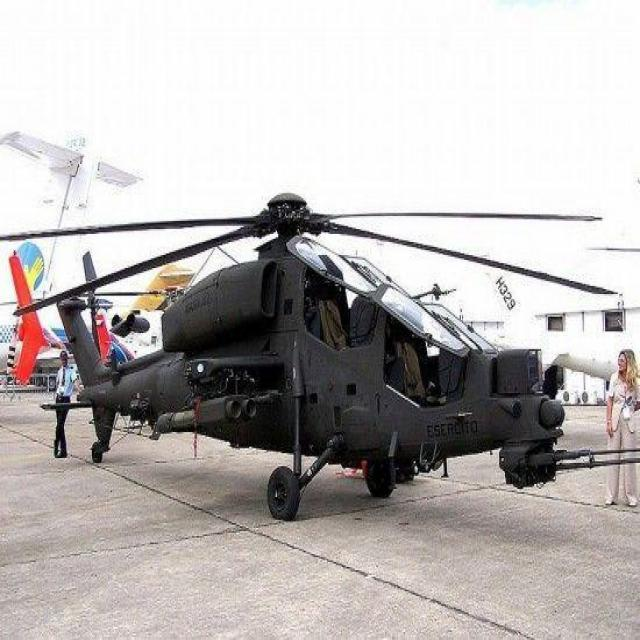MIL_HELO: (3, 190, 640, 550)
